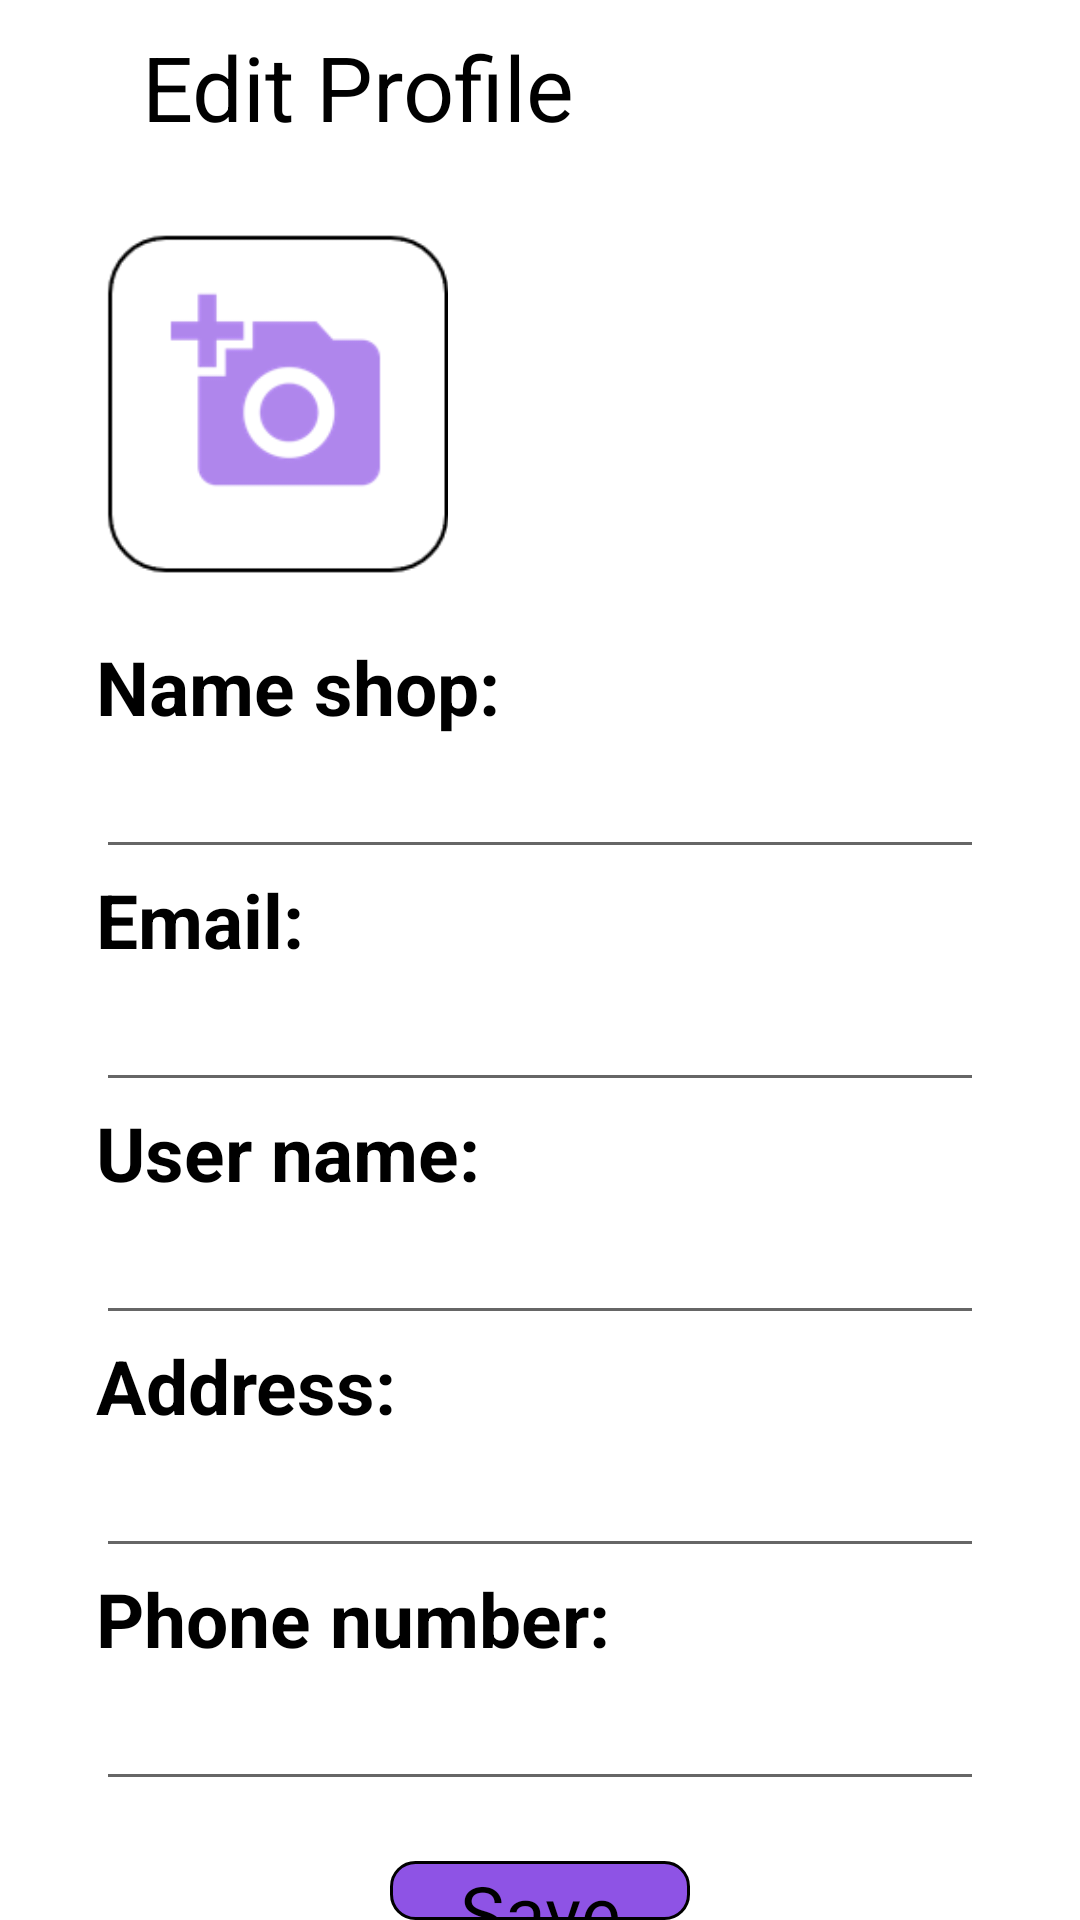

Icons on this 1080 × 1920 Android screen, each with its box as Rect(x1, y1, x2, y2):
imgphoto: Rect(107, 235, 448, 573)
